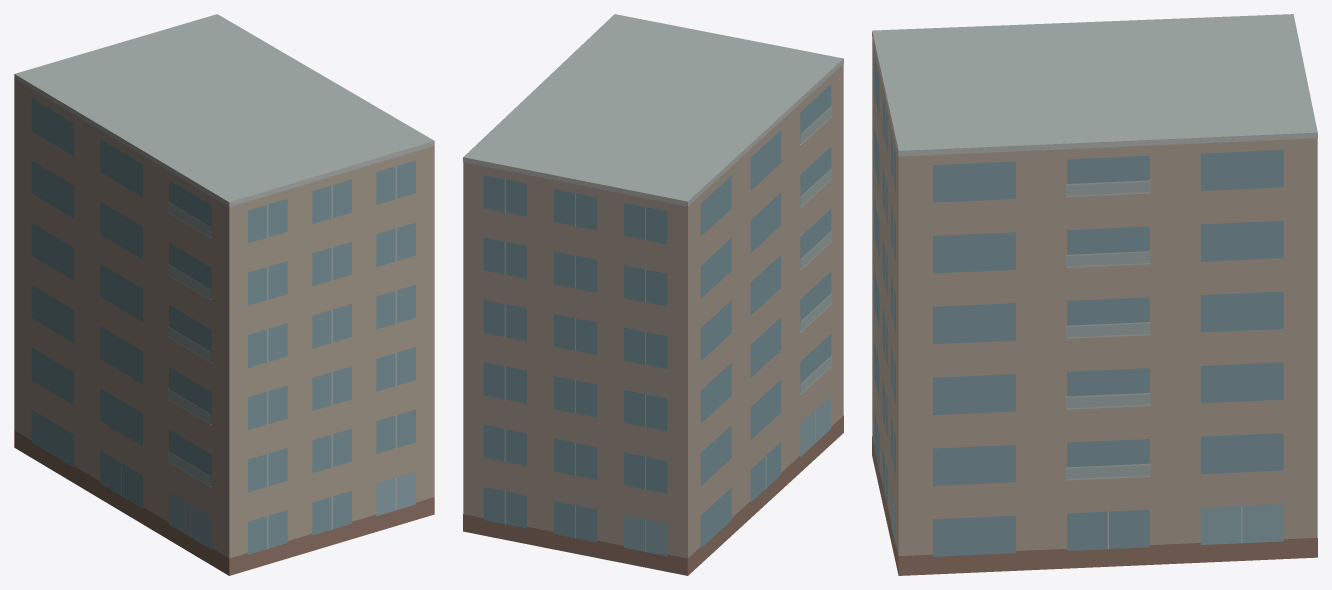
The model's file is survey-upis-32967232.glb.
3 views of the same model, side by side, from view 1: azimuth 30°, elevation 25°; view 2: azimuth 150°, elevation 25°; view 3: azimuth 270°, elevation 25° (orthographic). The views are drawn at different scales.
Visible parts, largest first — view 1: survey-upis-32967232.tmp; view 2: survey-upis-32967232.tmp; view 3: survey-upis-32967232.tmp.
Part boxes in pixels (left/top/right/bottom): survey-upis-32967232.tmp: left=14, top=14, right=434, bottom=575; survey-upis-32967232.tmp: left=463, top=14, right=843, bottom=575; survey-upis-32967232.tmp: left=872, top=14, right=1317, bottom=575.
Size of the model in its own units: 12.66 by 18.3 by 17.41.
